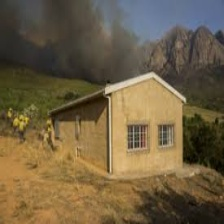smoke: (1, 1, 146, 80)
